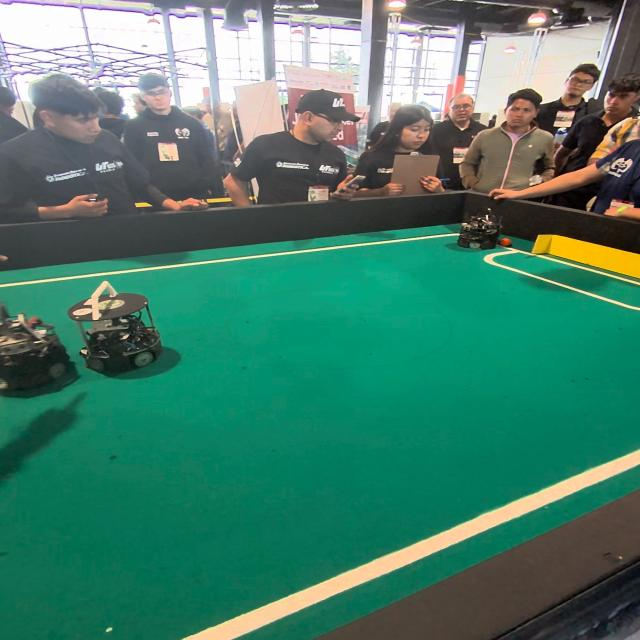Robot: (70, 279, 170, 379), (0, 299, 76, 402), (456, 202, 510, 252)
pelota: (495, 236, 522, 254)
